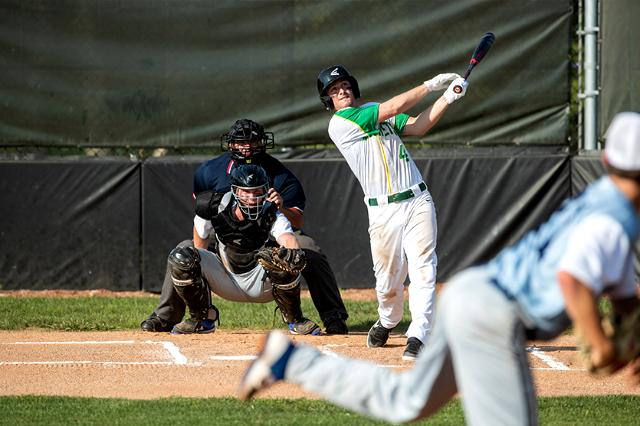baseball bat: (461, 31, 497, 82)
